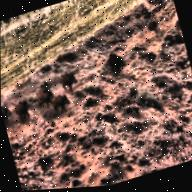boar: (32, 81, 56, 112), (104, 46, 126, 78), (58, 68, 82, 95), (13, 97, 35, 126), (51, 90, 74, 115), (33, 75, 54, 95), (1, 96, 14, 126)
